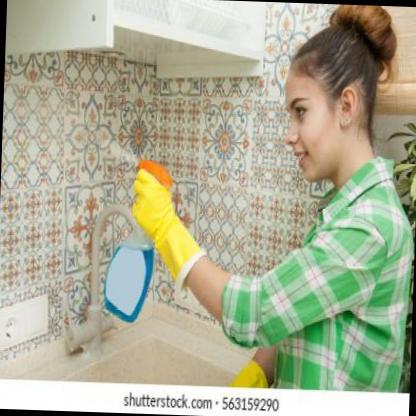Gloves: (130, 168, 210, 294)
